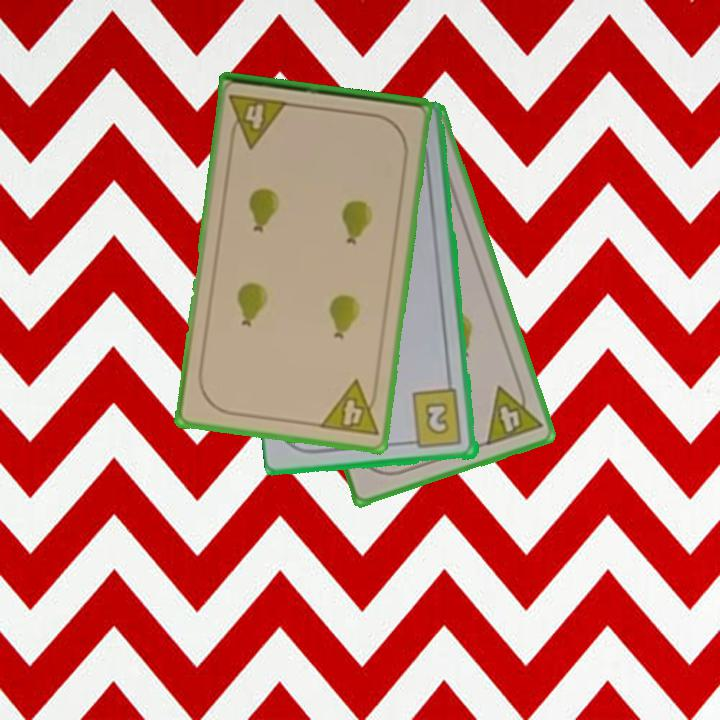2b: (404, 386, 465, 452)
4p: (482, 376, 545, 449), (316, 377, 382, 440), (226, 90, 291, 151)
